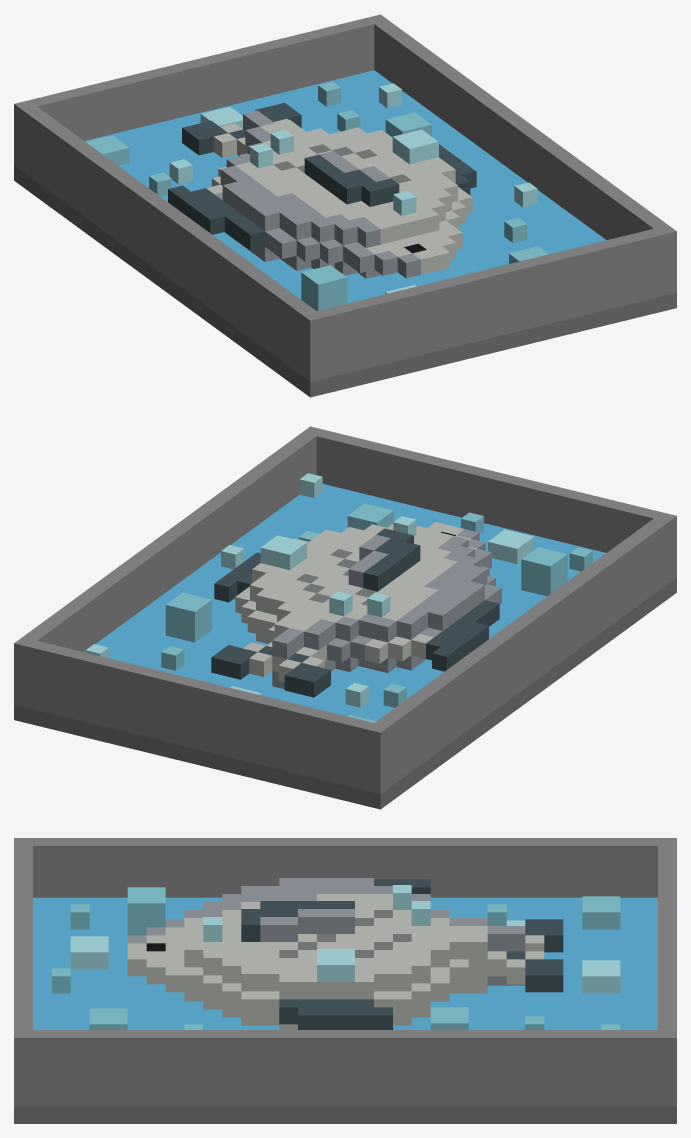
File: Fish_In_Box.fbx
3 renders of one model, top to bottom at view 1: azimuth 30°, elevation 25°; view 2: azimuth 150°, elevation 25°; view 3: azimuth 270°, elevation 25°, orthographic. The views are drawn at different scales.
Visible parts, largest first — view 1: Fish:Fish; view 2: Fish:Fish; view 3: Fish:Fish.
Part boxes in pixels (<box>): Fish:Fish: <box>14,14,676,397</box>; Fish:Fish: <box>14,426,676,809</box>; Fish:Fish: <box>14,838,676,1123</box>.
Size of the model in its own units: 25 by 6 by 35.
